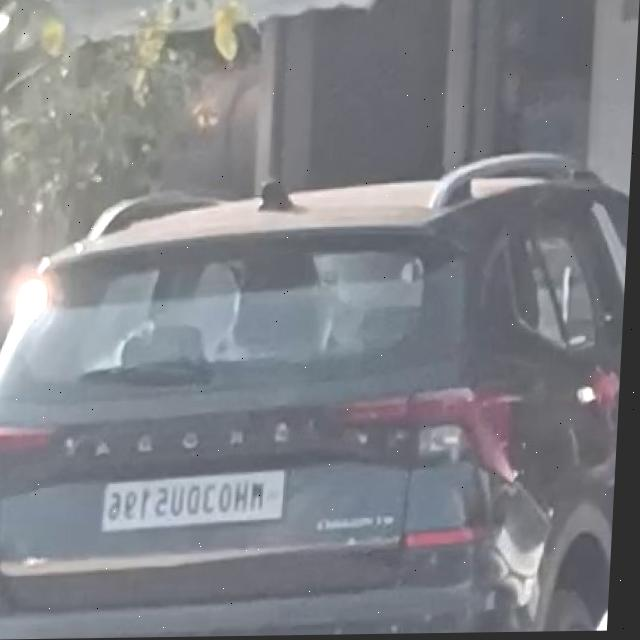plate: (105, 467, 295, 534)
